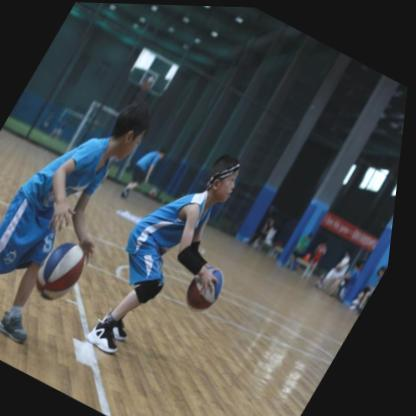basketball: (31, 233, 102, 309)
